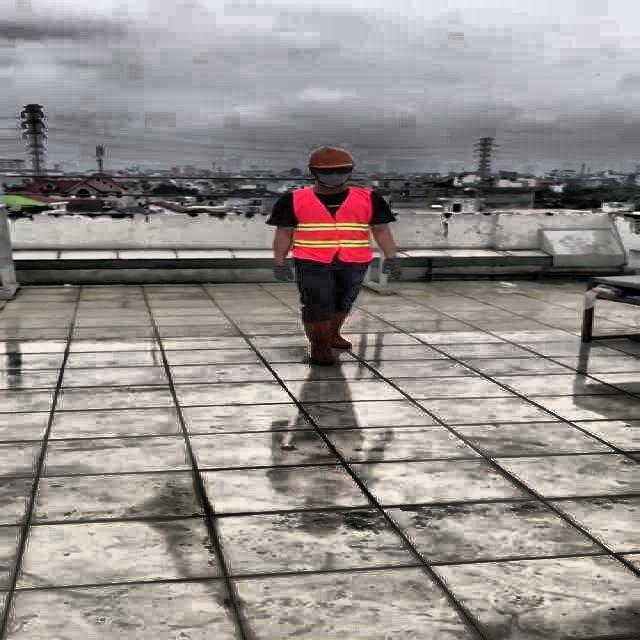safety_helmet: (302, 147, 362, 170)
safety_jacket: (292, 188, 372, 261)
